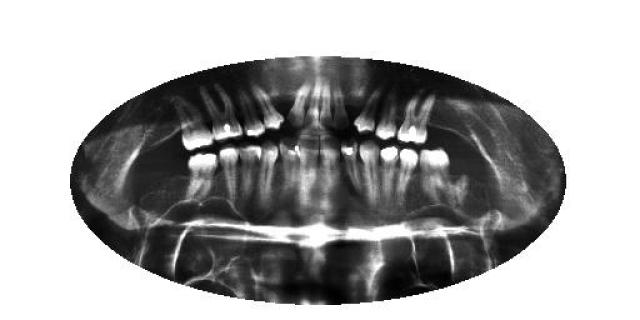Fillings: (200, 85, 241, 143), (395, 95, 434, 144)
